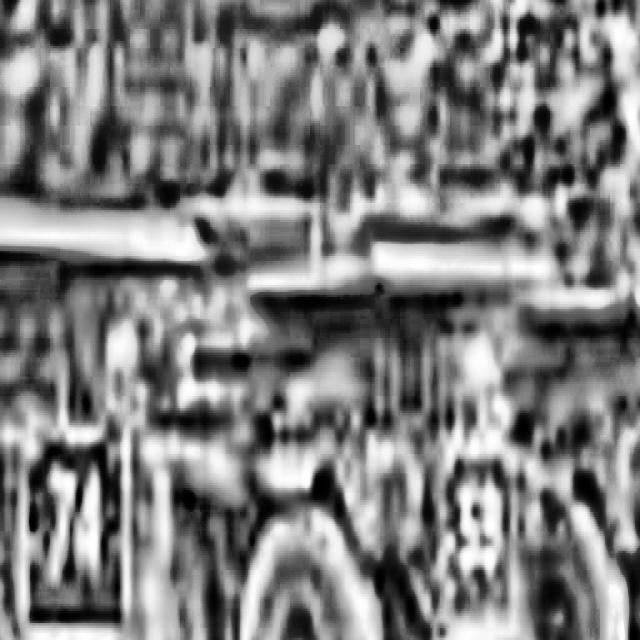dump_truck: (211, 222, 551, 640), (0, 123, 212, 640)
